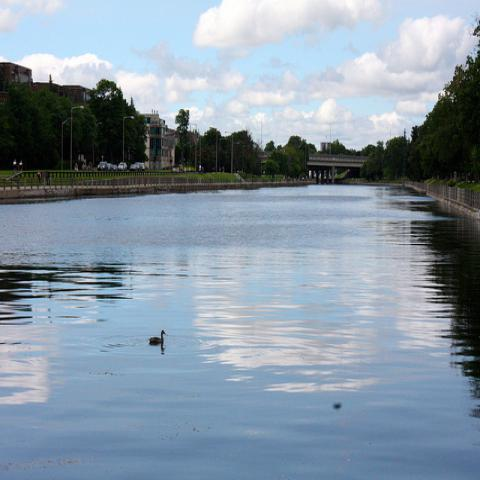car: (117, 161, 127, 172), (135, 162, 145, 172), (97, 162, 108, 171), (130, 162, 142, 170), (107, 164, 114, 172), (112, 164, 117, 171), (144, 165, 148, 170)
